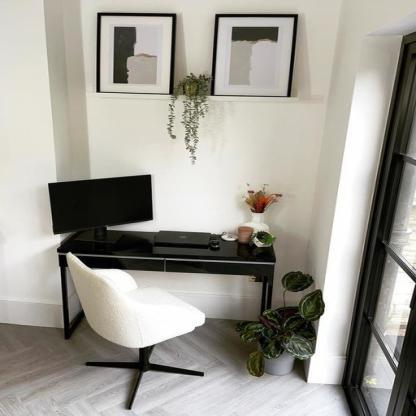chair: (52, 252, 211, 413)
door: (342, 28, 416, 416)
table: (55, 227, 279, 339)
